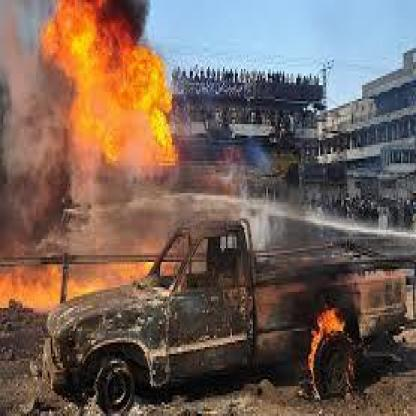fire: (48, 0, 185, 170), (4, 255, 166, 307), (310, 302, 352, 388)
smoke: (0, 39, 70, 230)
